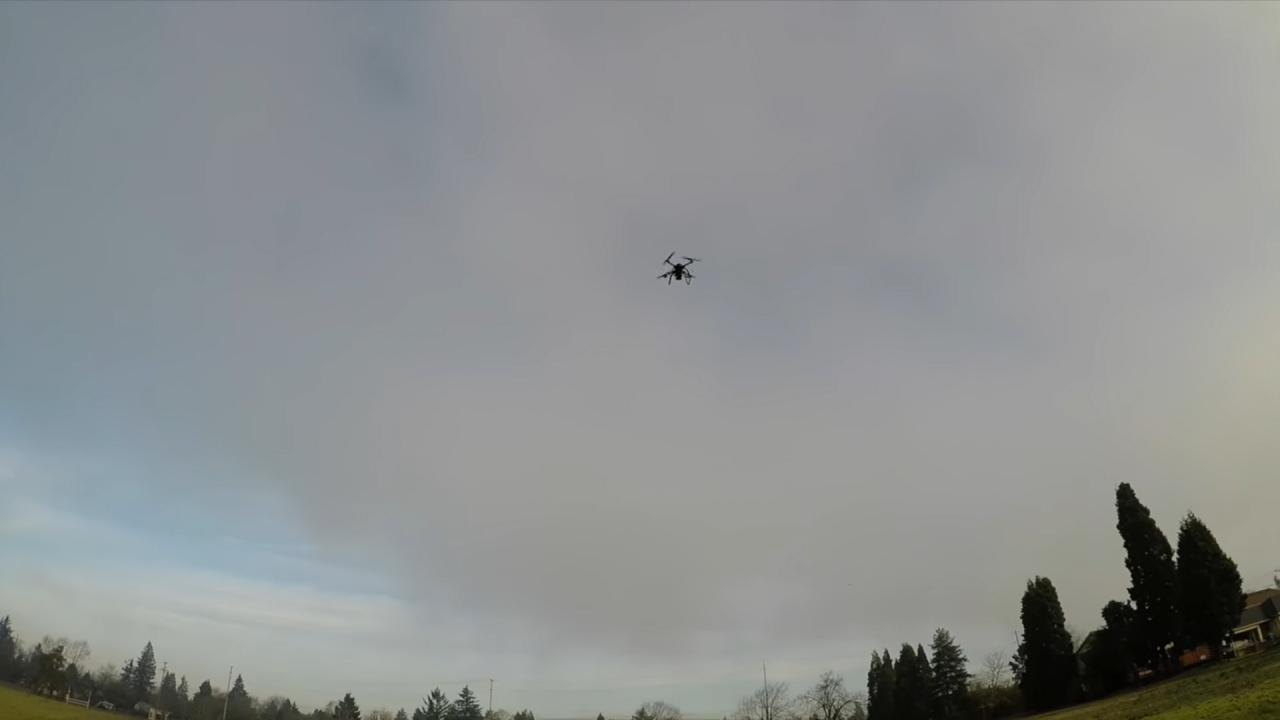Drone: (649, 241, 709, 298)
